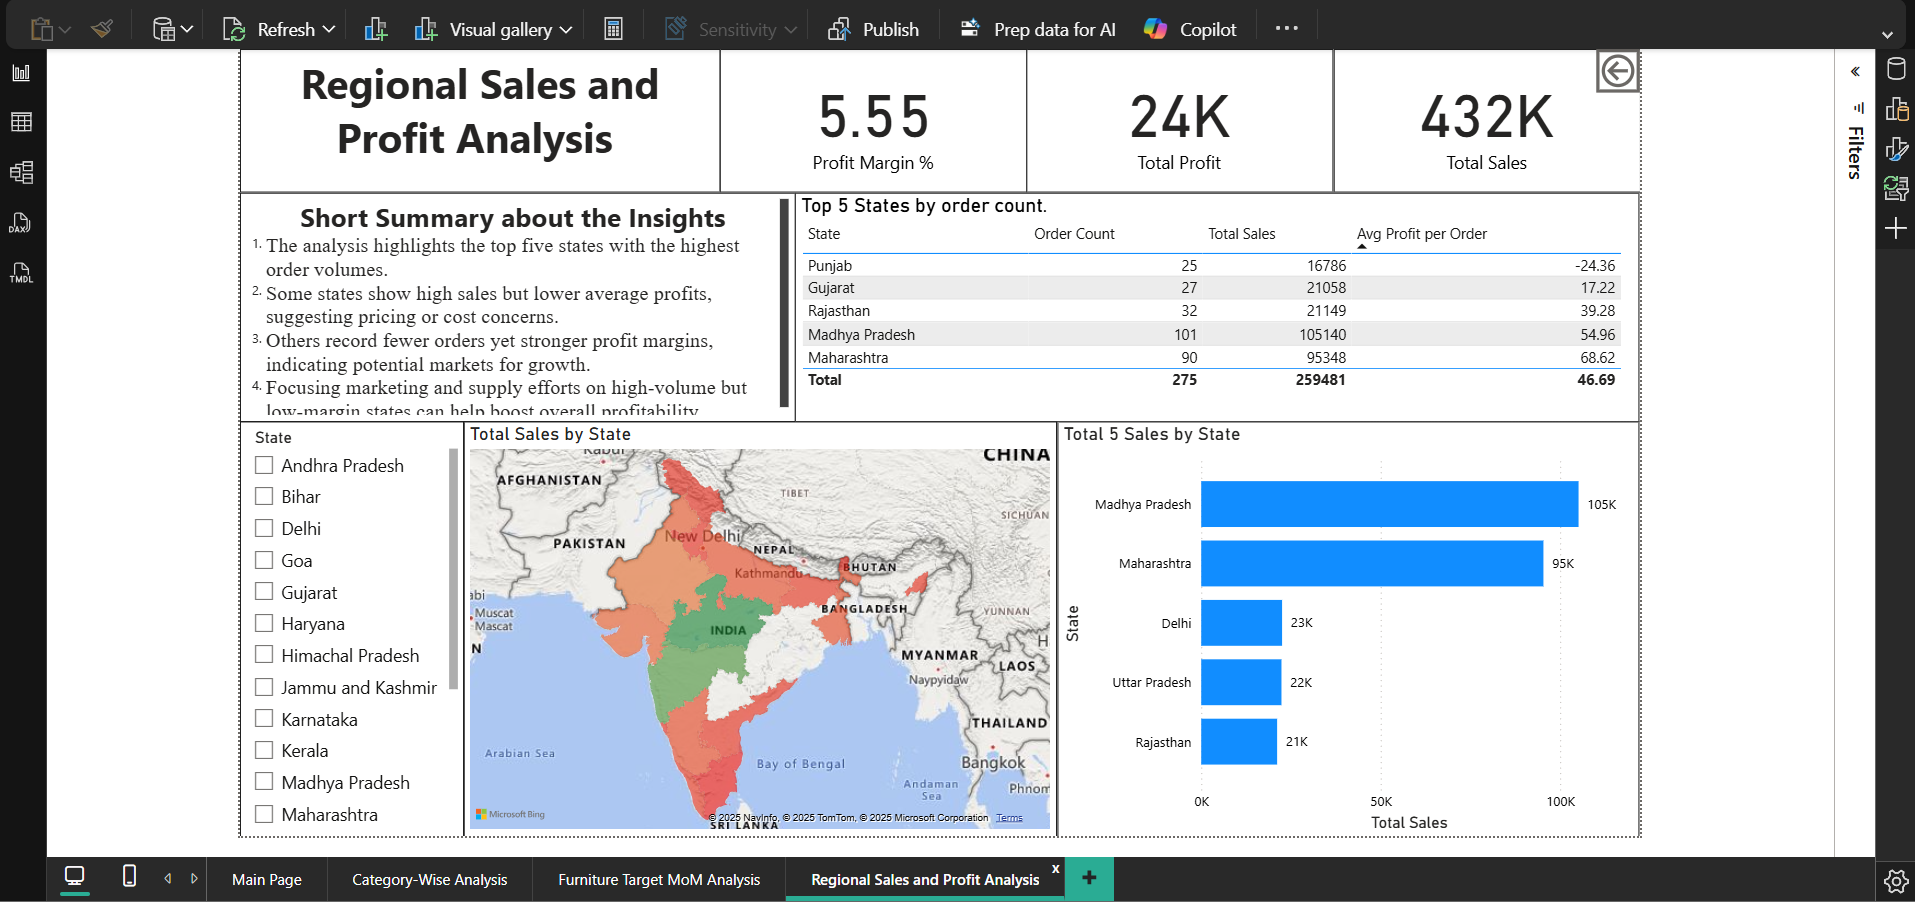

This screenshot's page, from the dashboard's own definition file:
{"tool":"powerbi","page":{"name":"Regional Sales and Profit Analysis ","canvas":[1280,720],"ordinal":3},"visuals":[{"type":"card","fields":{"Values":["Order Details (1).Total Sales"]},"box":[999.9,0,280.5,130.9],"z":0},{"type":"card","fields":{"Values":["Order Details (1).Total Profit"]},"box":[719.4,0,280.5,130.9],"z":1000},{"type":"card","fields":{"Values":["Order Details (1).Profit Margin %"]},"box":[438.9,0,280.5,130.9],"z":2000},{"type":"tableEx","title":"Top 5 States by order count.","fields":{"Values":["List of Orders (1).State","Order Details (1).Order Count","Order Details (1).Total Sales","Order Details (1).Avg Profit per Order"]},"box":[507.6,130.9,772.4,209.5],"z":3000},{"type":"clusteredBarChart","title":"Total 5 Sales by State","fields":{"Category":["List of Orders (1).State"],"Y":["Order Details (1).Total Sales"]},"box":[747.6,340.4,532.4,381.1],"z":4000},{"type":"filledMap","fields":{"Category":["List of Orders (1).State"]},"box":[205.1,340.4,542.5,379.6],"z":5000},{"type":"slicer","fields":{"Values":["List of Orders (1).State"]},"box":[0,340.4,205.1,379.6],"z":6000},{"type":"textbox","box":[0,0,439.3,130.9],"z":7000},{"type":"textbox","box":[0,130.9,507.6,209.5],"z":8000},{"type":"actionButton","box":[1240.1,0,39.9,39.9],"z":8001}]}

Visuals, with their boxes on the page's 1280x720 design canvas (x1, y1, x2, y2). These are canvas units, not pixel positions in the 1915x902 screenshot, which may show the page scaled, cropped or inside an application window:
card - Order Details (1).Total Sales: 1000/0/1280/131
card - Order Details (1).Total Profit: 719/0/1000/131
card - Order Details (1).Profit Margin %: 439/0/719/131
"Top 5 States by order count." tableEx: 508/131/1280/340
"Total 5 Sales by State" clusteredBarChart: 748/340/1280/722
filledMap - List of Orders (1).State: 205/340/748/720
slicer - List of Orders (1).State: 0/340/205/720
textbox: 0/0/439/131
textbox: 0/131/508/340
actionButton: 1240/0/1280/40
